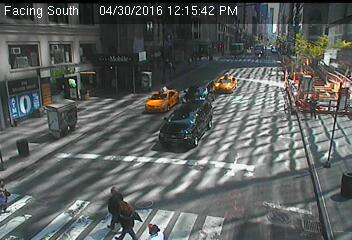pos: (306, 95, 324, 119)
